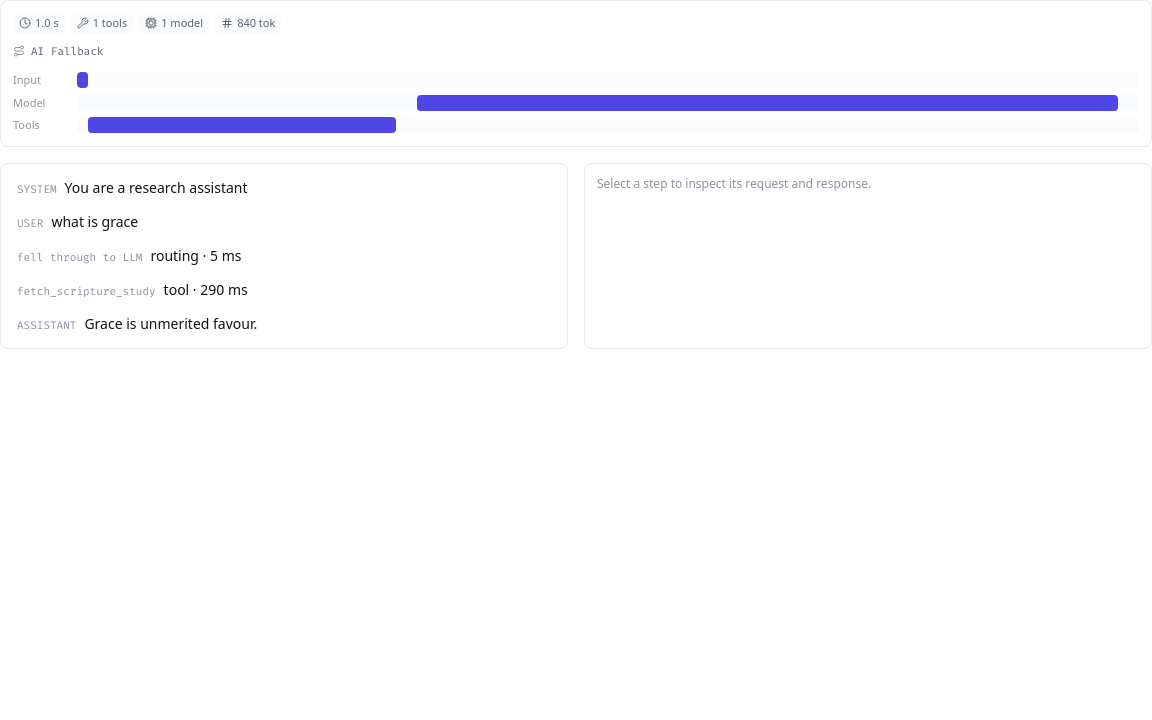
it: TrajectoryView › shows tokens, timing and a truncation note in the detail drawer
Click the text "fetch_scripture_study".
click(86, 291)  # box [17, 284, 156, 298]
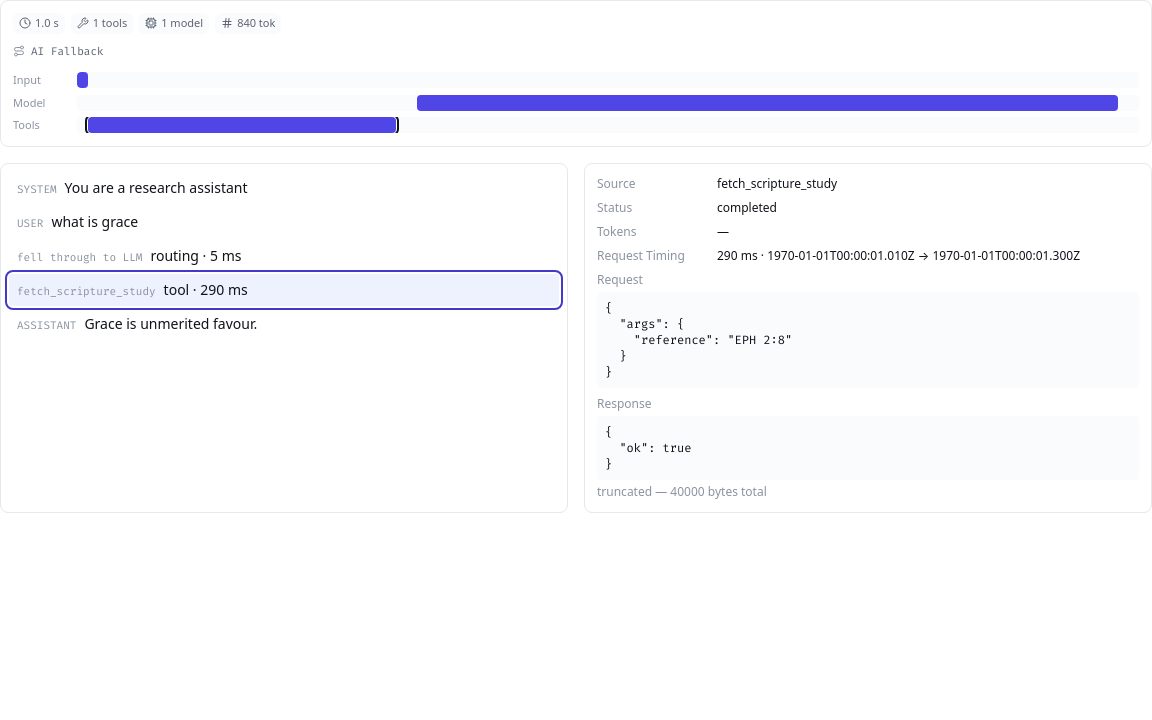
Expected: the text "290 ms · 1970-01-01T00:00:01.010Z → 1970-01-01T00:00:01.300Z" is shown, [717, 248, 1080, 264]
Expected: the text "truncated — 40000 bytes total" is shown, [597, 482, 767, 500]
Click the button titled "Ollama (m)".
click(767, 103)  # box [417, 95, 1118, 111]
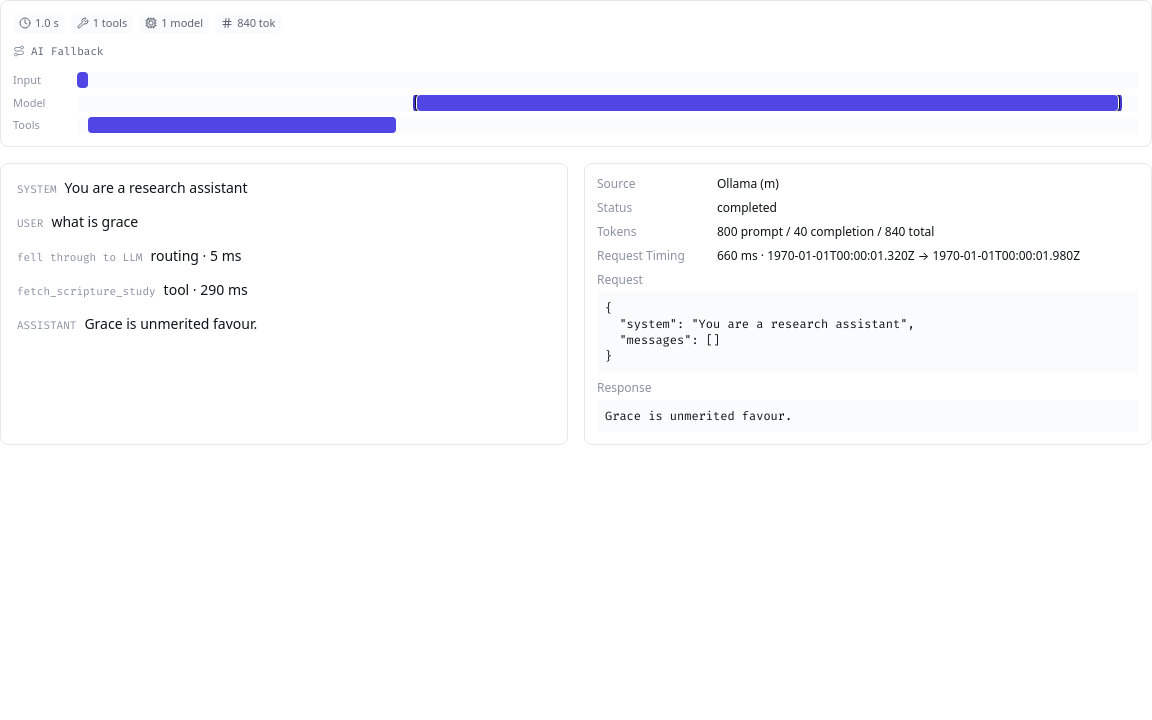
Expected: the text "800 prompt / 40 completion / 840 total" is shown, [717, 224, 934, 240]
Expected: the text "bytes total" is gone
